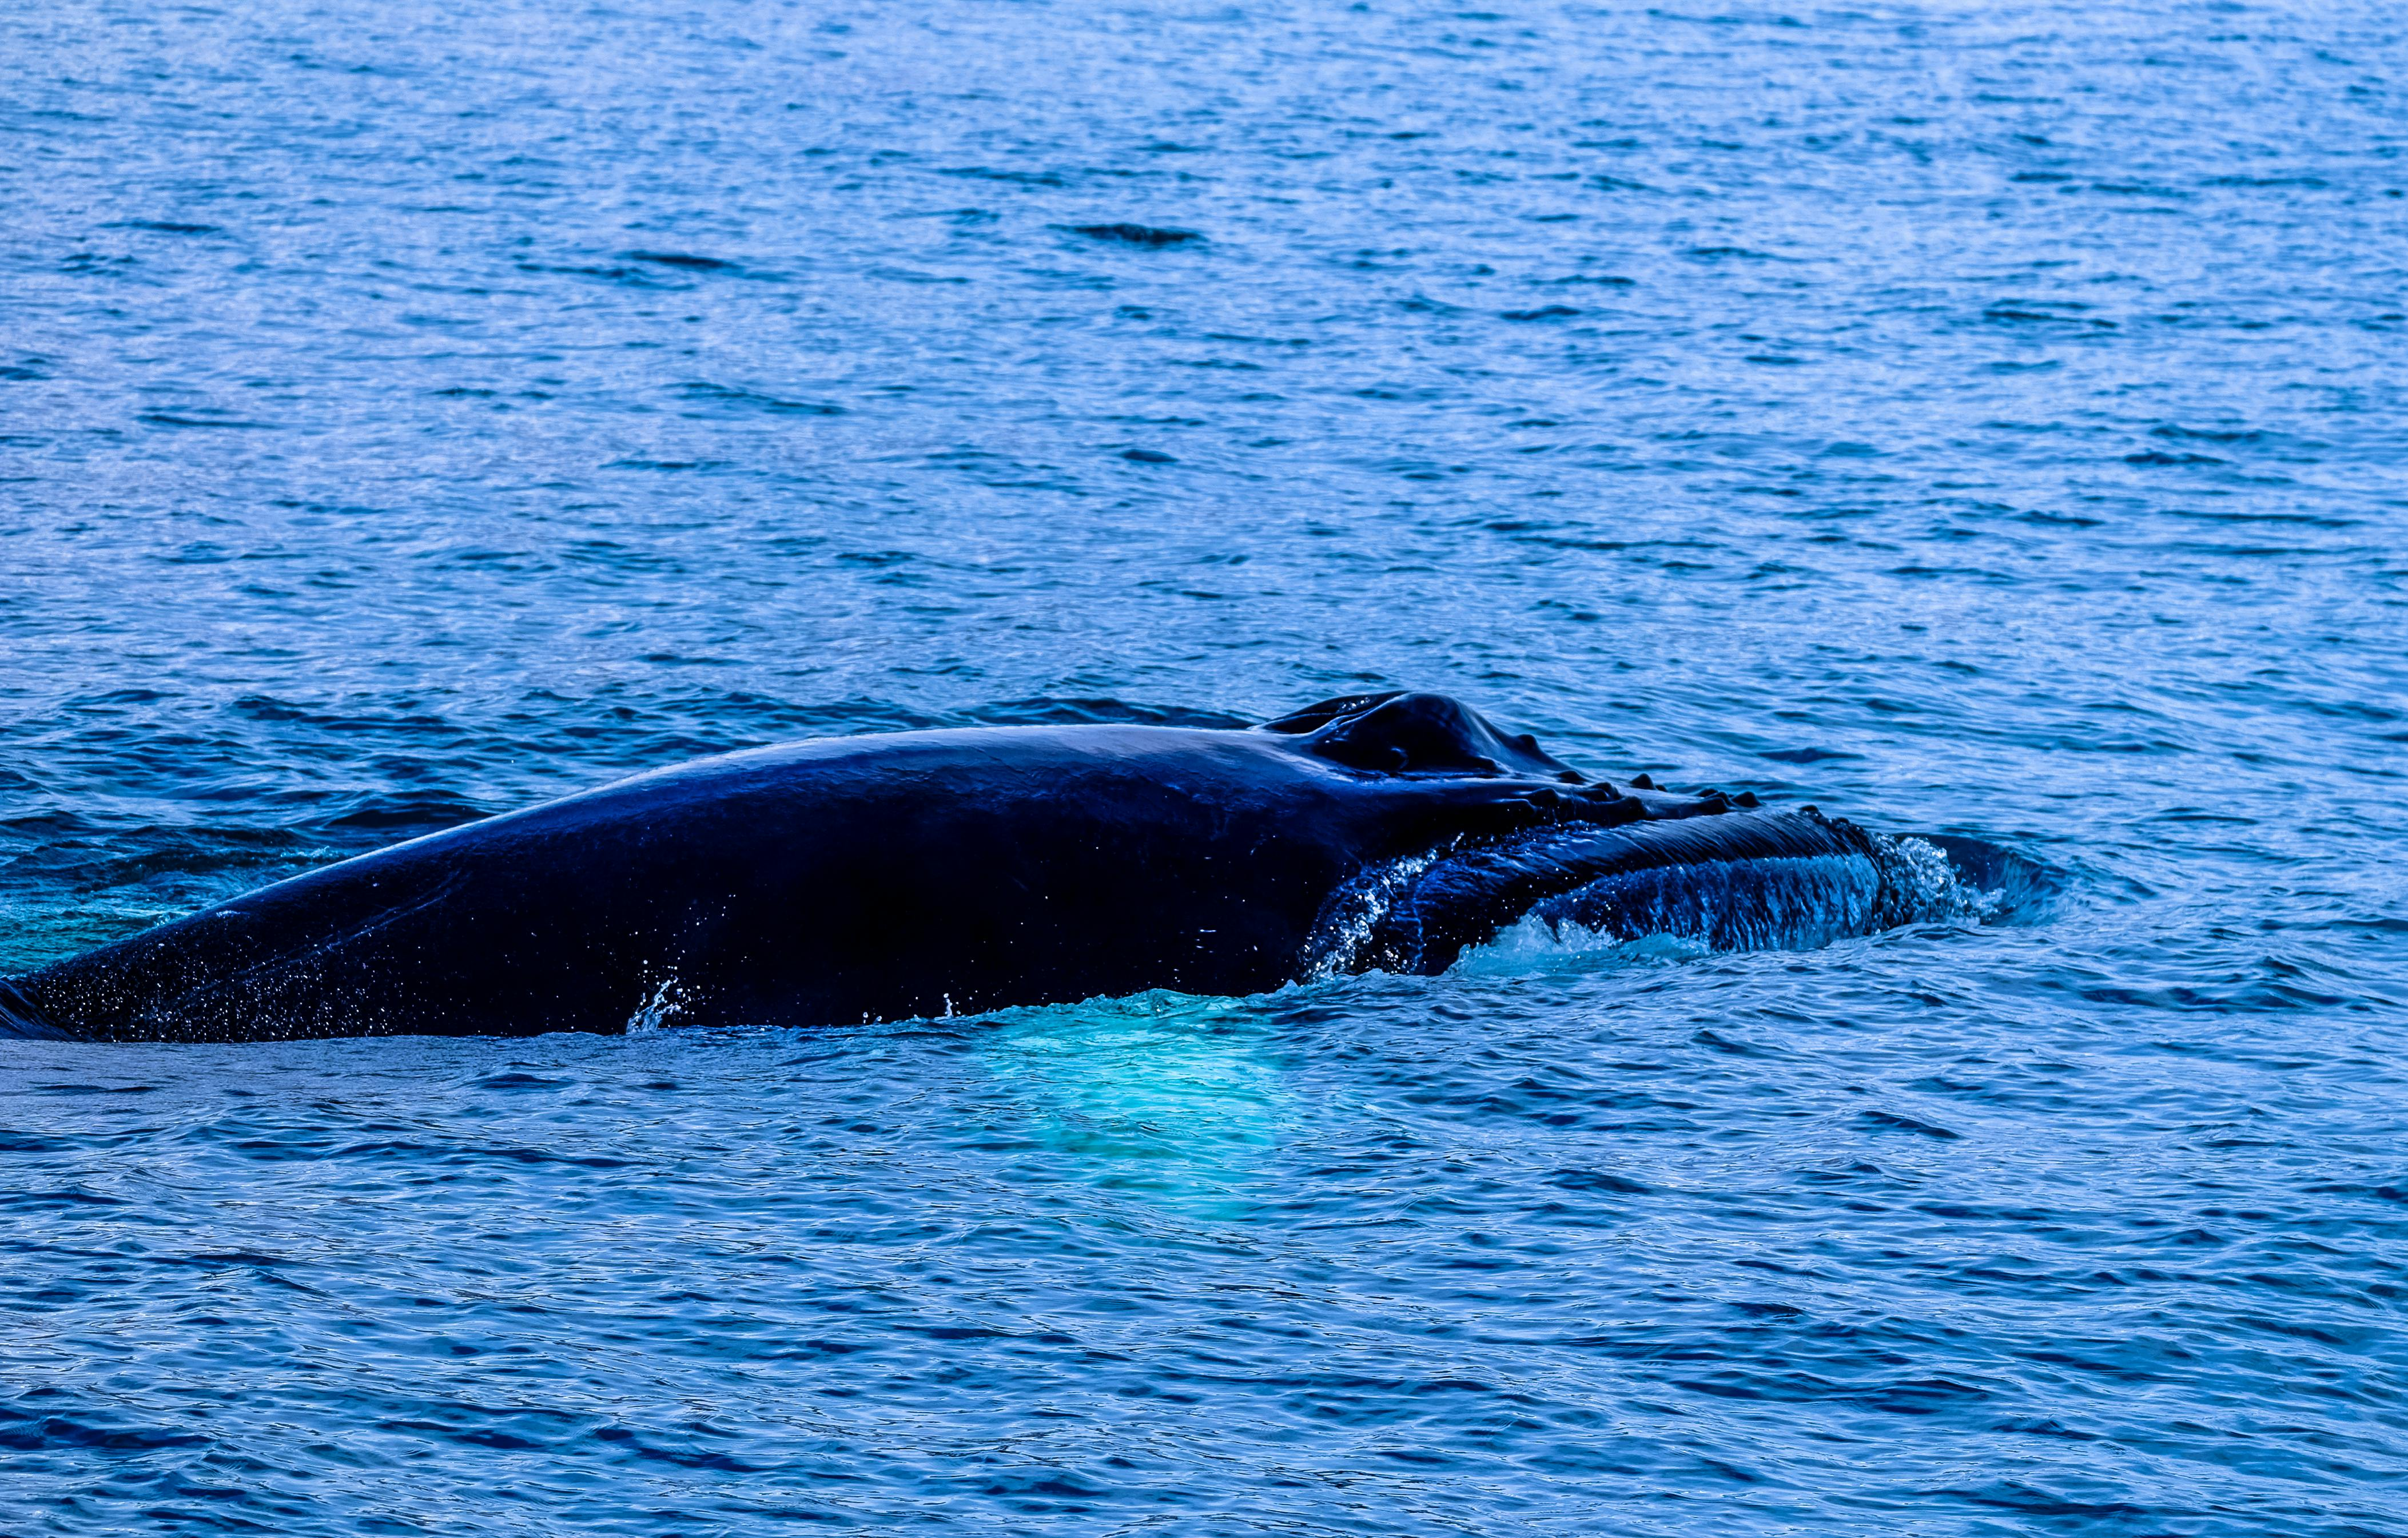whale: (2, 681, 1904, 1050)
